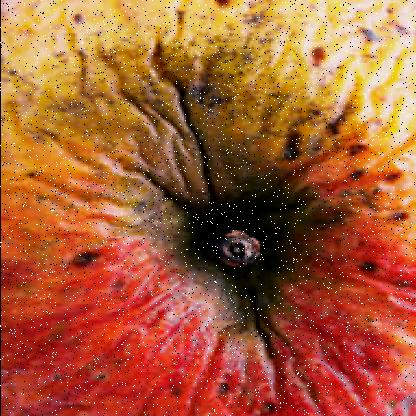damaged_apple: (30, 28, 390, 376)
